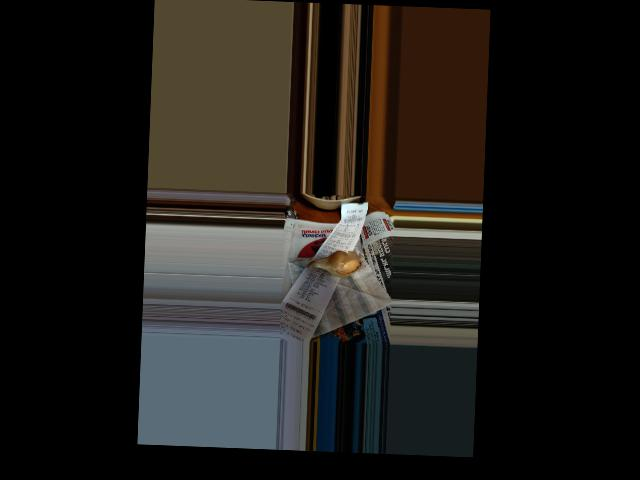onion: (320, 249, 358, 279)
